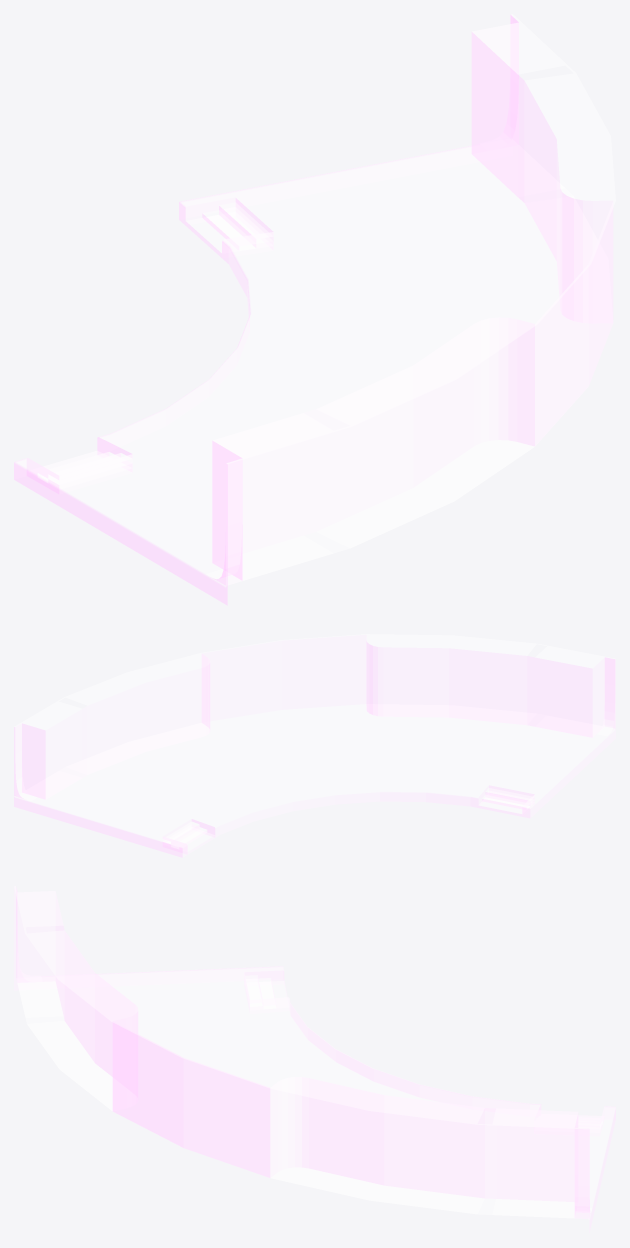
The model's file is Podium Frame.glb.
3 renders of one model, top to bottom at view 1: azimuth 30°, elevation 25°; view 2: azimuth 150°, elevation 25°; view 3: azimuth 270°, elevation 25°, orthographic. The views are drawn at different scales.
Parts seen in each view (by area): view 1: debug_view; view 2: debug_view; view 3: debug_view.
Boxes of the visible parts, x1,y1,x2,y2 form: debug_view: (14,14,615,605); debug_view: (14,634,615,857); debug_view: (14,886,615,1232).
Size of the model in its own units: 23.51 by 4.5 by 23.51.
